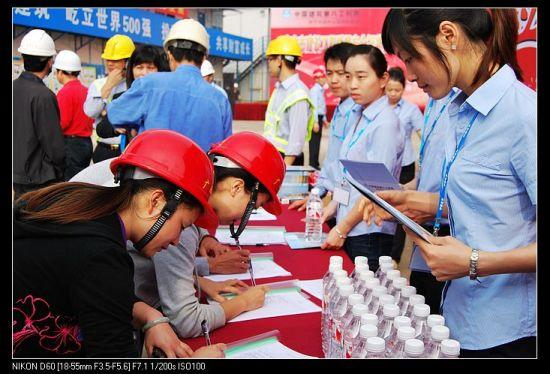helmet: (115, 133, 220, 239), (213, 132, 288, 213), (167, 18, 211, 53), (20, 32, 56, 59), (265, 36, 306, 58), (55, 49, 84, 77), (103, 38, 135, 63)
